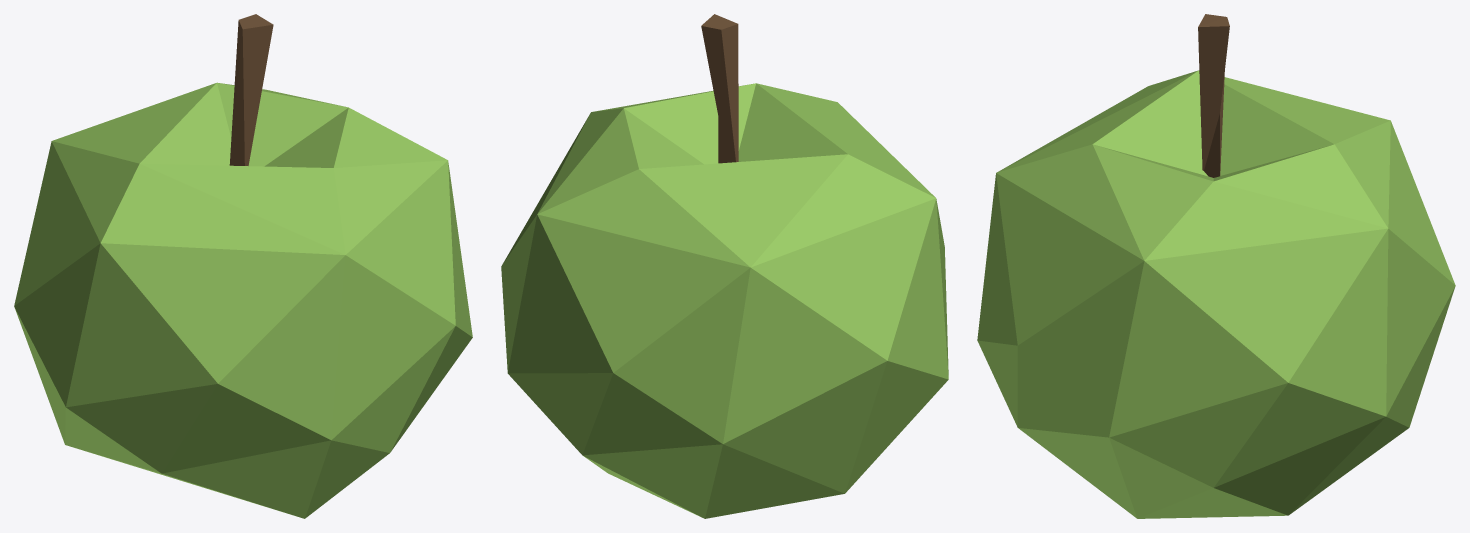
File: Apple.fbx
3 views of the same model, side by side, from view 1: azimuth 30°, elevation 25°; view 2: azimuth 150°, elevation 25°; view 3: azimuth 270°, elevation 25° (orthographic). The views are drawn at different scales.
Parts seen in each view (by area): view 1: Apple; view 2: Apple; view 3: Apple.
Boxes of the visible parts, x1=… form: Apple: x1=14, y1=14, x2=472, y2=518; Apple: x1=501, y1=14, x2=948, y2=518; Apple: x1=977, y1=14, x2=1455, y2=518.
Bounding box in the file's own units: 0.1894 × 0.2201 × 0.1945.
